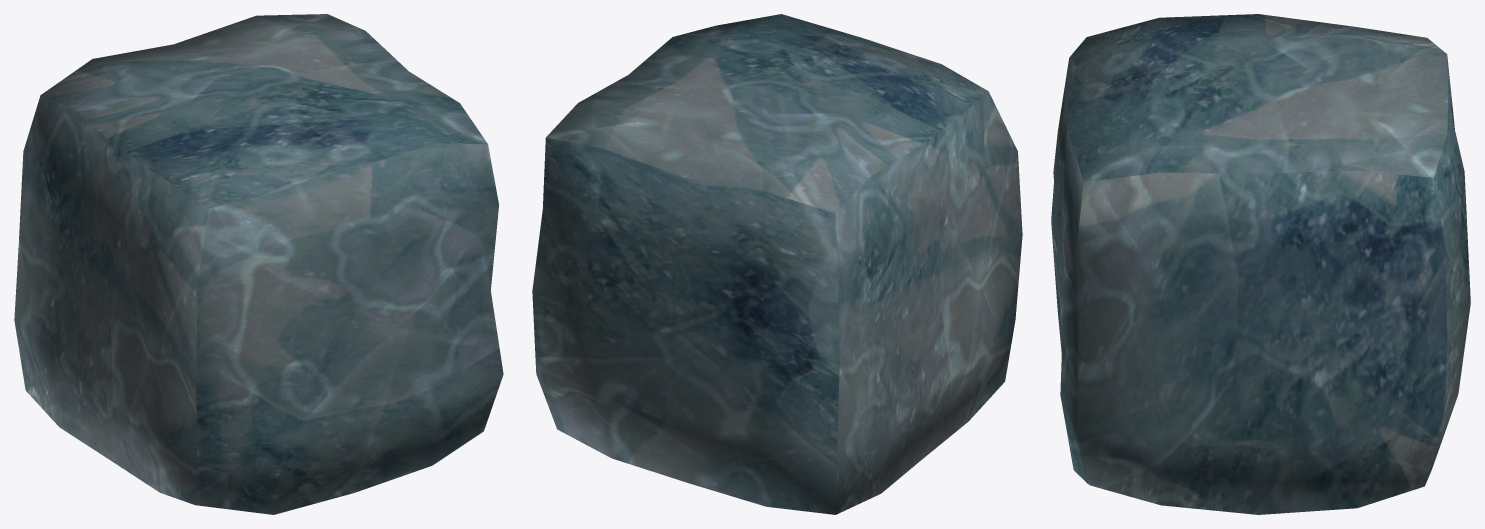
Rendered from mur1.obj.
3 views of the same model, side by side, from view 1: azimuth 30°, elevation 25°; view 2: azimuth 150°, elevation 25°; view 3: azimuth 270°, elevation 25° (orthographic). The views are drawn at different scales.
Parts seen in each view (by area): view 1: mur1; view 2: mur1; view 3: mur1.
Part boxes in pixels (<box>): mur1: <box>14,14,503,514</box>; mur1: <box>532,14,1022,514</box>; mur1: <box>1051,14,1470,514</box>.
Bounding box in the file's own units: 0.583 × 0.5834 × 0.5998.
Materials: 1 (1 with a texture image).
